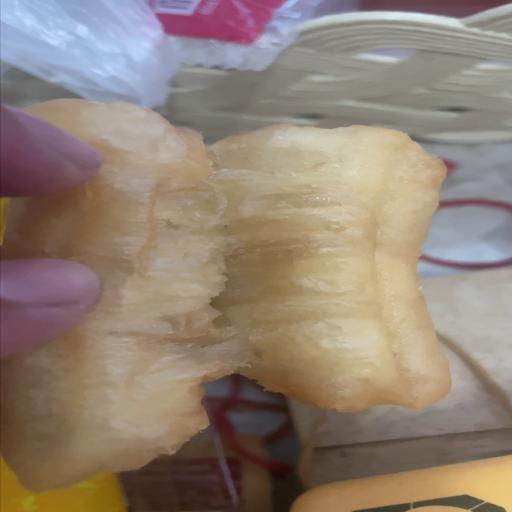street_golden_defect: (0, 116, 454, 506)
street_golden_good: (290, 455, 511, 512)
